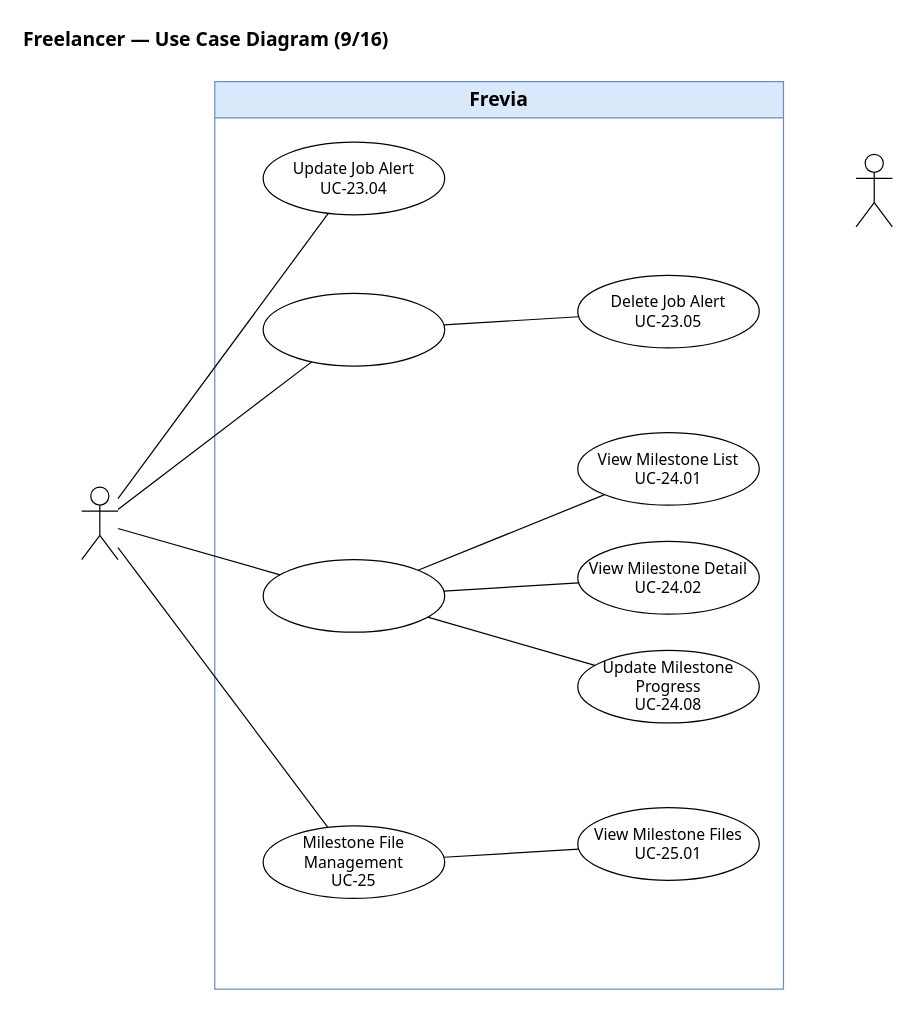
The diagram is 920 pixels wide and 1010 high, and some of its shapes have lost their labels. The centre of each missing label's shape, as x and y in pixels:
"Freelancer" goes at [99,523].
"Job Alert Management UC-23" goes at [353,329].
"Milestone Management UC-24" goes at [353,595].
"Stripe" goes at [873,190].
